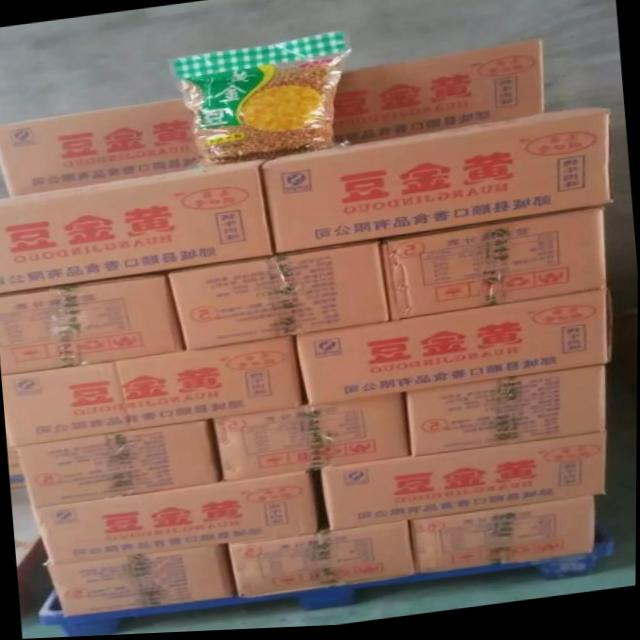box: (261, 112, 611, 255), (0, 158, 274, 293), (296, 292, 609, 407), (4, 337, 310, 447), (32, 471, 330, 566), (322, 437, 606, 533), (378, 209, 605, 324), (165, 240, 390, 351), (333, 43, 544, 150), (0, 99, 205, 197), (0, 271, 187, 375), (407, 368, 607, 460), (15, 420, 224, 508), (214, 394, 412, 483), (409, 501, 595, 578), (45, 546, 239, 618), (230, 524, 415, 599)
